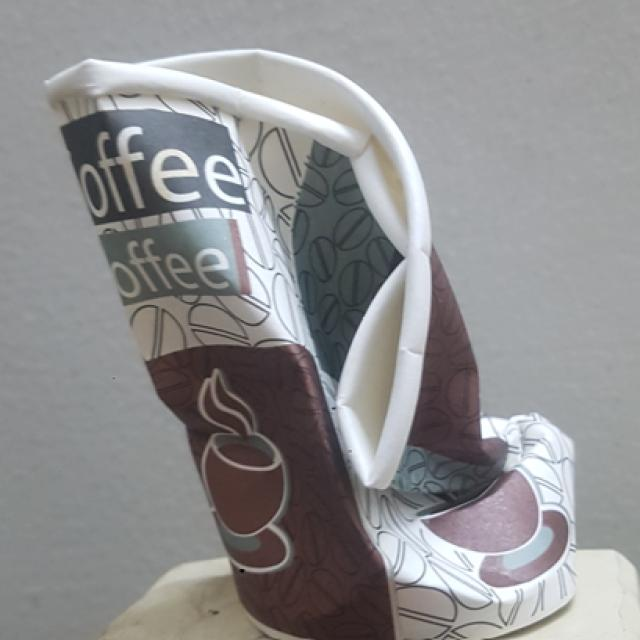electronic: (42, 47, 579, 638)
